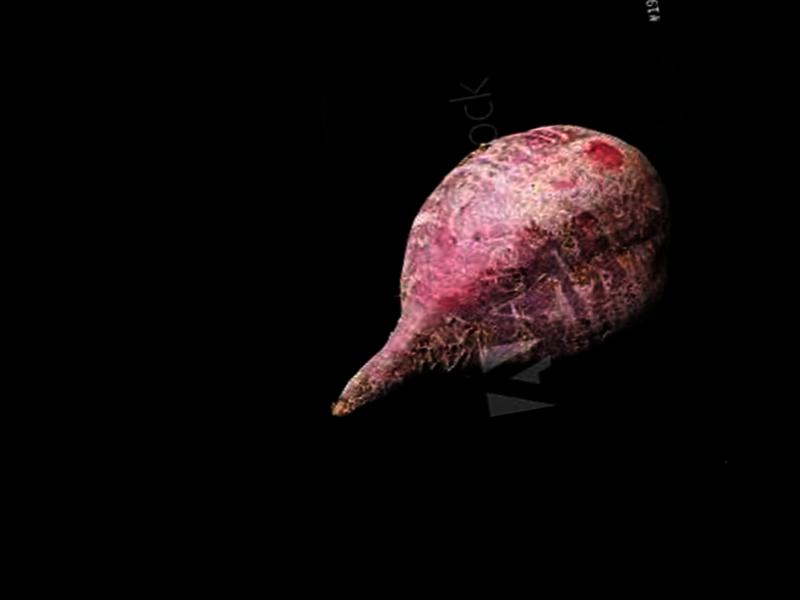Beet: (289, 105, 692, 415)
